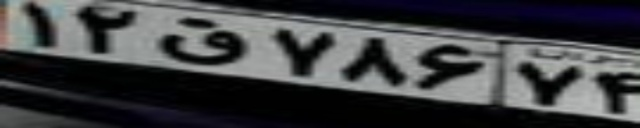1: (24, 1, 53, 48)
2: (77, 4, 135, 53)
4: (592, 68, 638, 116)
6: (413, 43, 483, 91)
7: (516, 58, 581, 106), (271, 28, 332, 78)
8: (338, 34, 403, 87)
ghaf: (155, 15, 247, 66)
